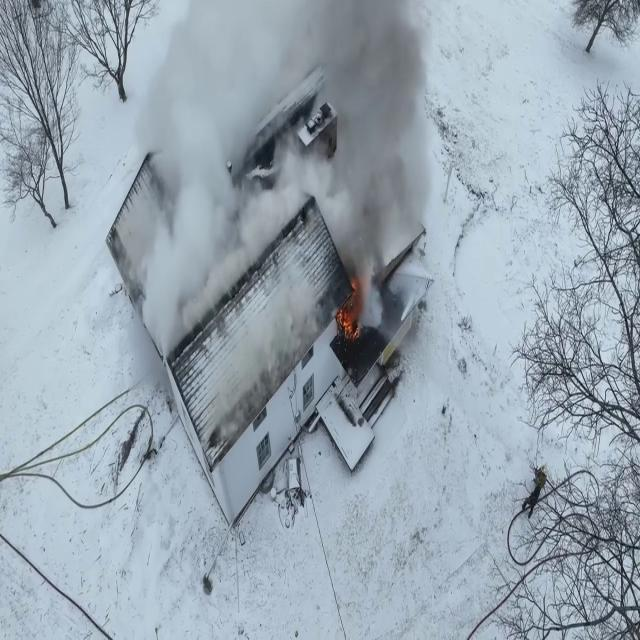Smoke: (126, 2, 294, 332), (311, 0, 445, 342)
